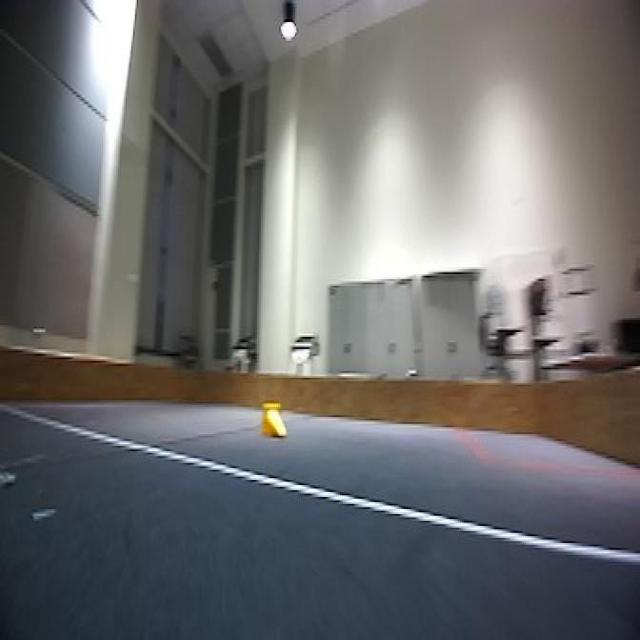frc_cone: (262, 402, 286, 439)
